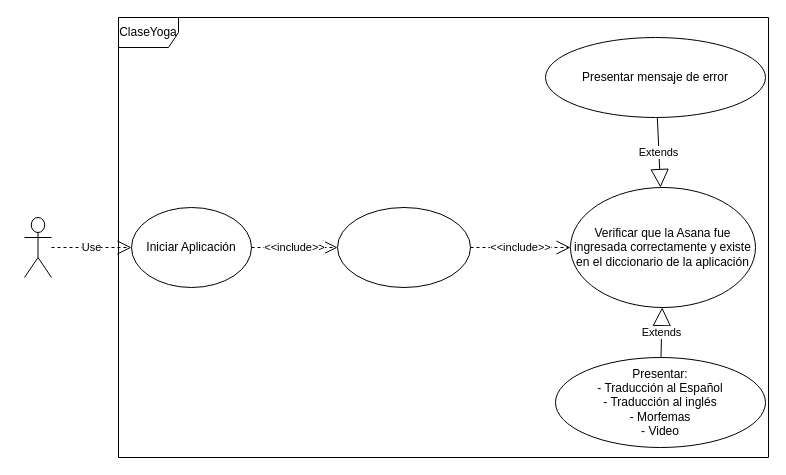
Some shapes in this 786 by 475 pixel diagram are drawn without their labels. Here are the shapes that lost their labels. From the top down, the centre of each, then its label:
At point (38, 247): "Usuario".
At point (403, 247): "Ingresar asana en el buscador".
